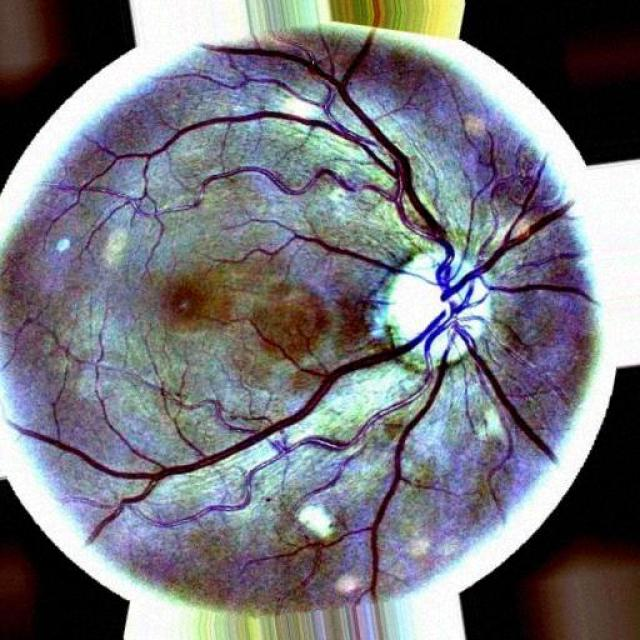Macula: (159, 273, 223, 341)
Nerves: (126, 306, 466, 485), (234, 46, 459, 285), (370, 337, 460, 593), (376, 245, 513, 375), (455, 323, 561, 467), (444, 217, 564, 305)
